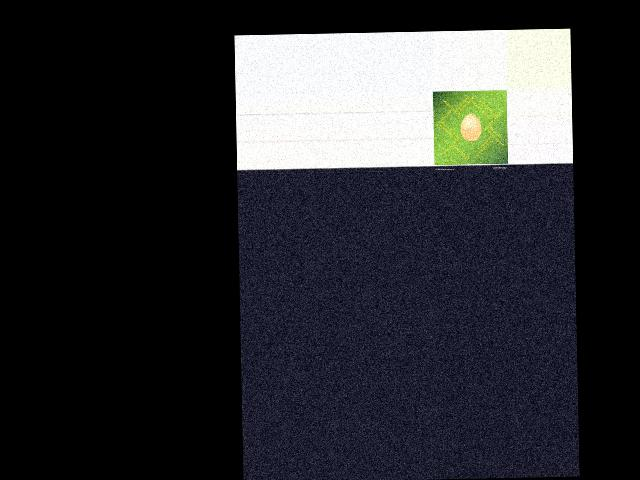egg: (459, 114, 481, 141)
